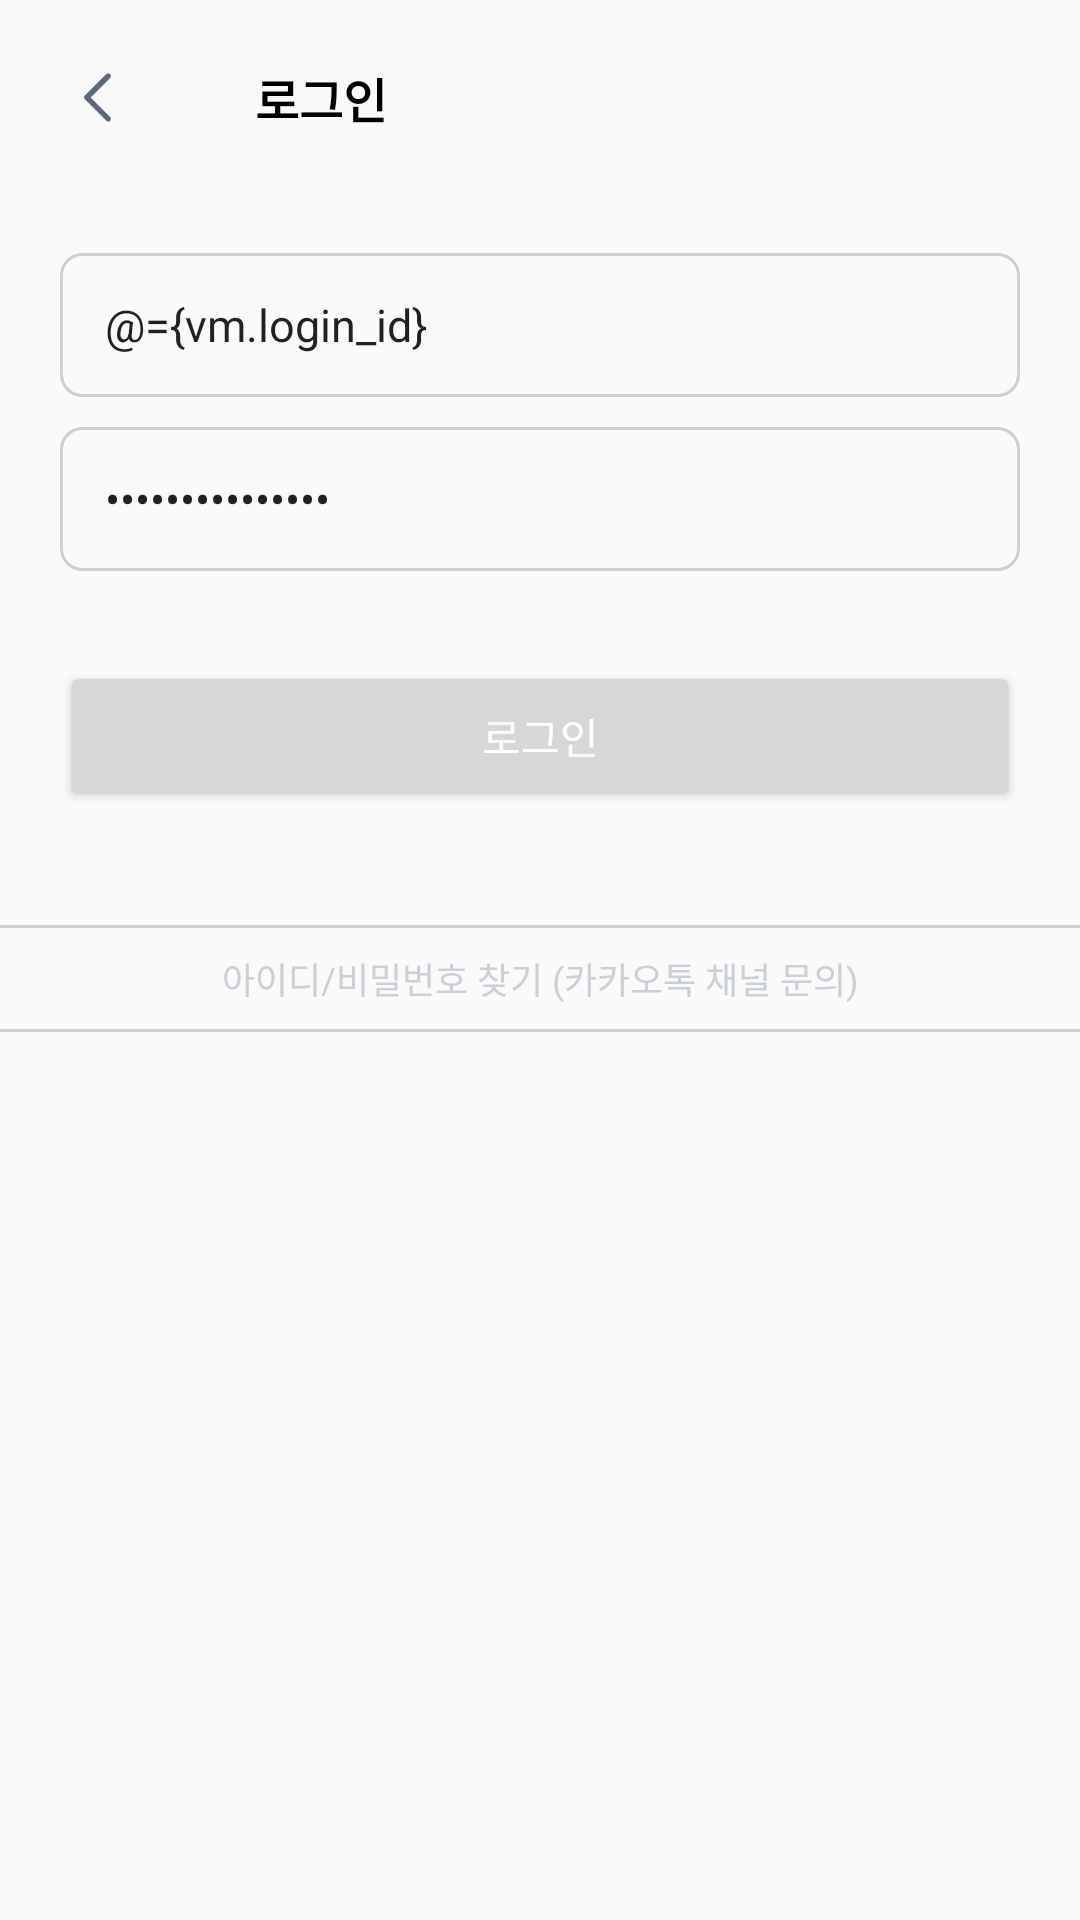

Screen size 1080 × 1920. Icon name, then its center in pixels as [x,y]:
back arrow: [97,97]
